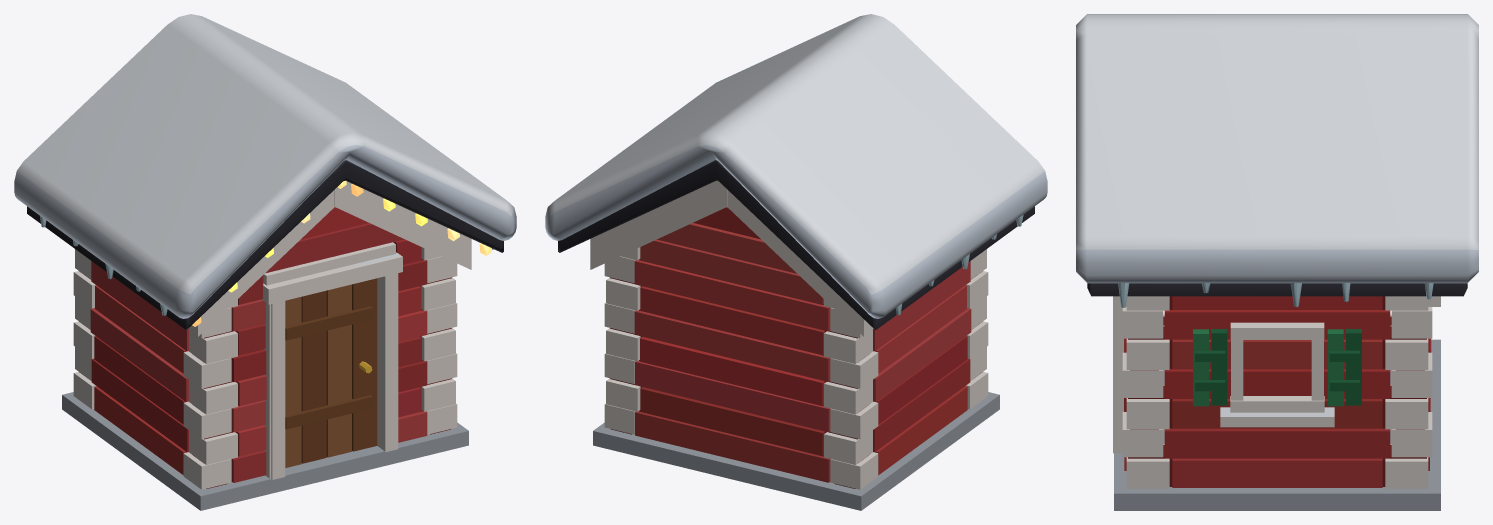
The model's file is Shed.glb.
The picture shows the model from 3 angles, left to right: view 1: azimuth 30°, elevation 25°; view 2: azimuth 150°, elevation 25°; view 3: azimuth 270°, elevation 25°; orthographic projection. The views are drawn at different scales.
Visible parts, largest first — view 1: Shed_Roof, Shed_Walls, Shed_Door, Shed_Foundation, Shed_Lights; view 2: Shed_Walls, Shed_Roof, Shed_Foundation; view 3: Shed_Roof, Shed_Walls, Shed_Door, Shed_Foundation.
Part boxes in pixels (x1,y1,x2,y2): Shed_Roof: (14,14,516,329); Shed_Walls: (73,181,471,489); Shed_Door: (262,252,402,479); Shed_Foundation: (62,392,468,510); Shed_Lights: (192,180,491,326); Shed_Walls: (590,180,988,489); Shed_Roof: (545,14,1047,329); Shed_Foundation: (593,392,999,510); Shed_Roof: (1076,14,1478,307); Shed_Walls: (1114,296,1440,488); Shed_Door: (1113,296,1361,453); Shed_Foundation: (1114,339,1440,510).
Size of the model in its own units: 12.2 by 12.07 by 10.6.
